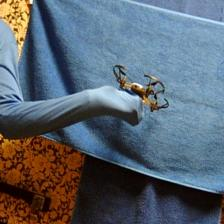drone: (112, 65, 172, 114)
